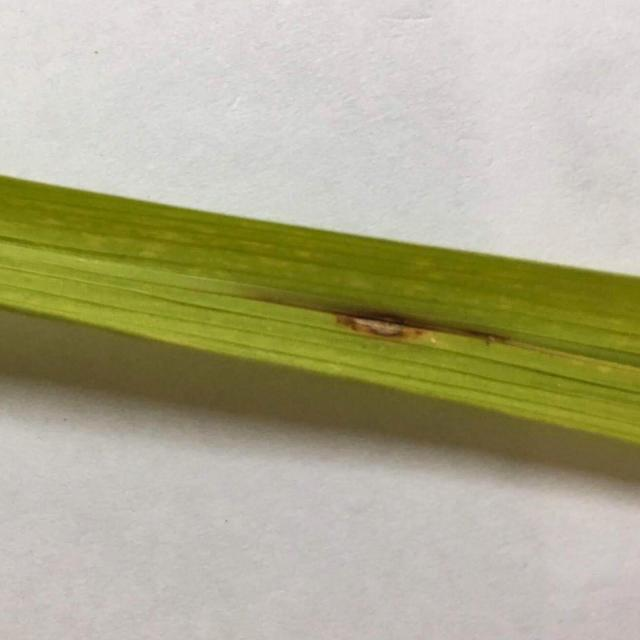Leaf_Blast: (274, 258, 537, 374)
